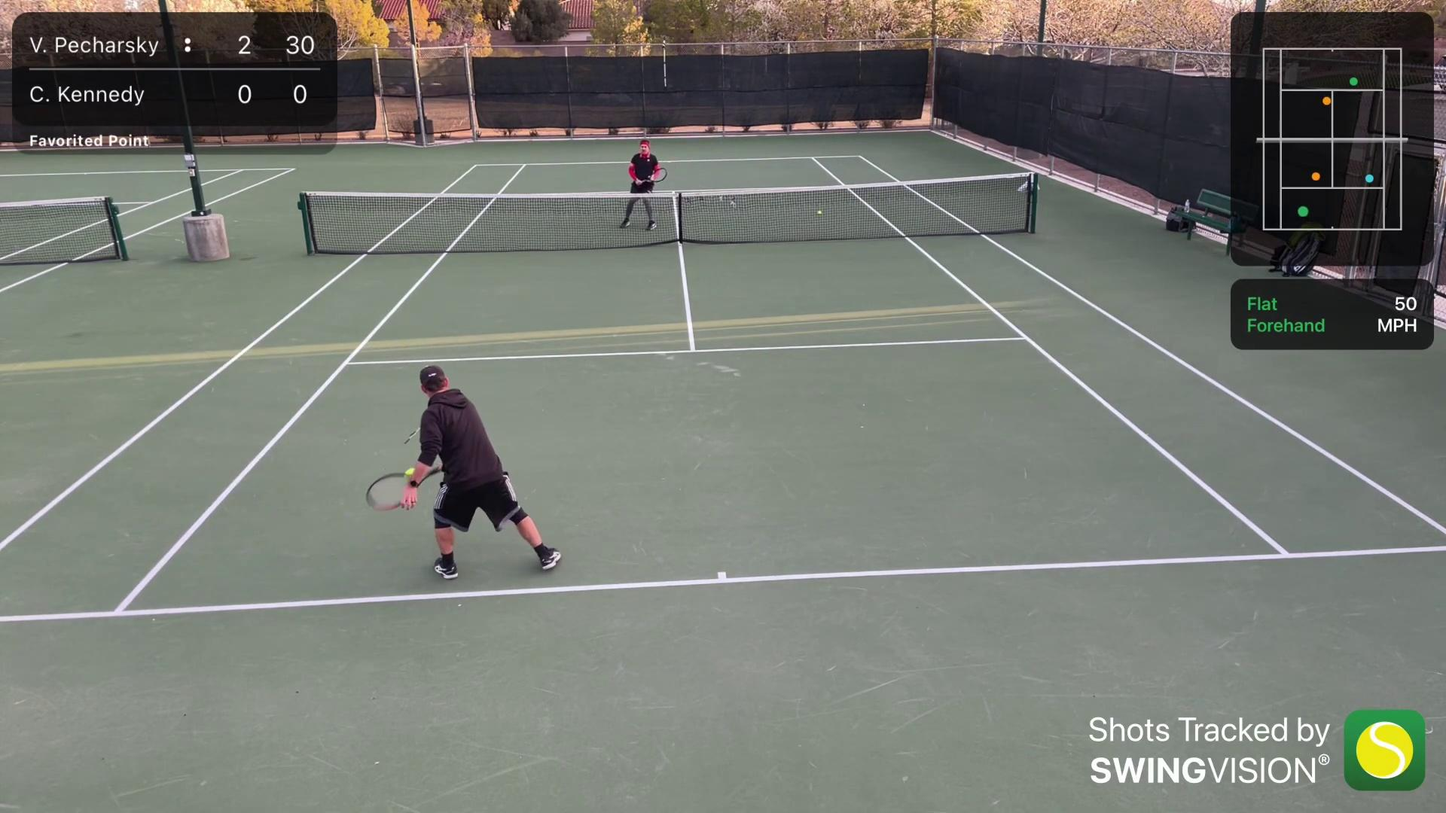ball: (401, 465, 415, 478), (817, 209, 822, 215)
